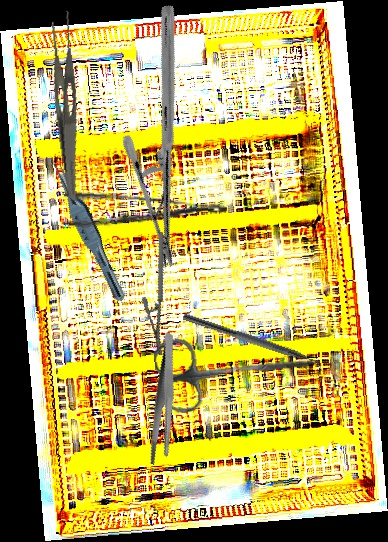Chopper: (178, 312, 332, 378)
Dressing Forceps: (121, 331, 208, 469), (41, 8, 98, 202), (61, 188, 228, 241)
Iris Scissors: (151, 321, 325, 417)
Needle Holder: (52, 2, 283, 271), (119, 230, 203, 357)
Tissue Forceps: (41, 153, 135, 304)
